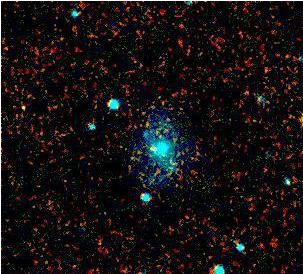star: (286, 100, 303, 130)
